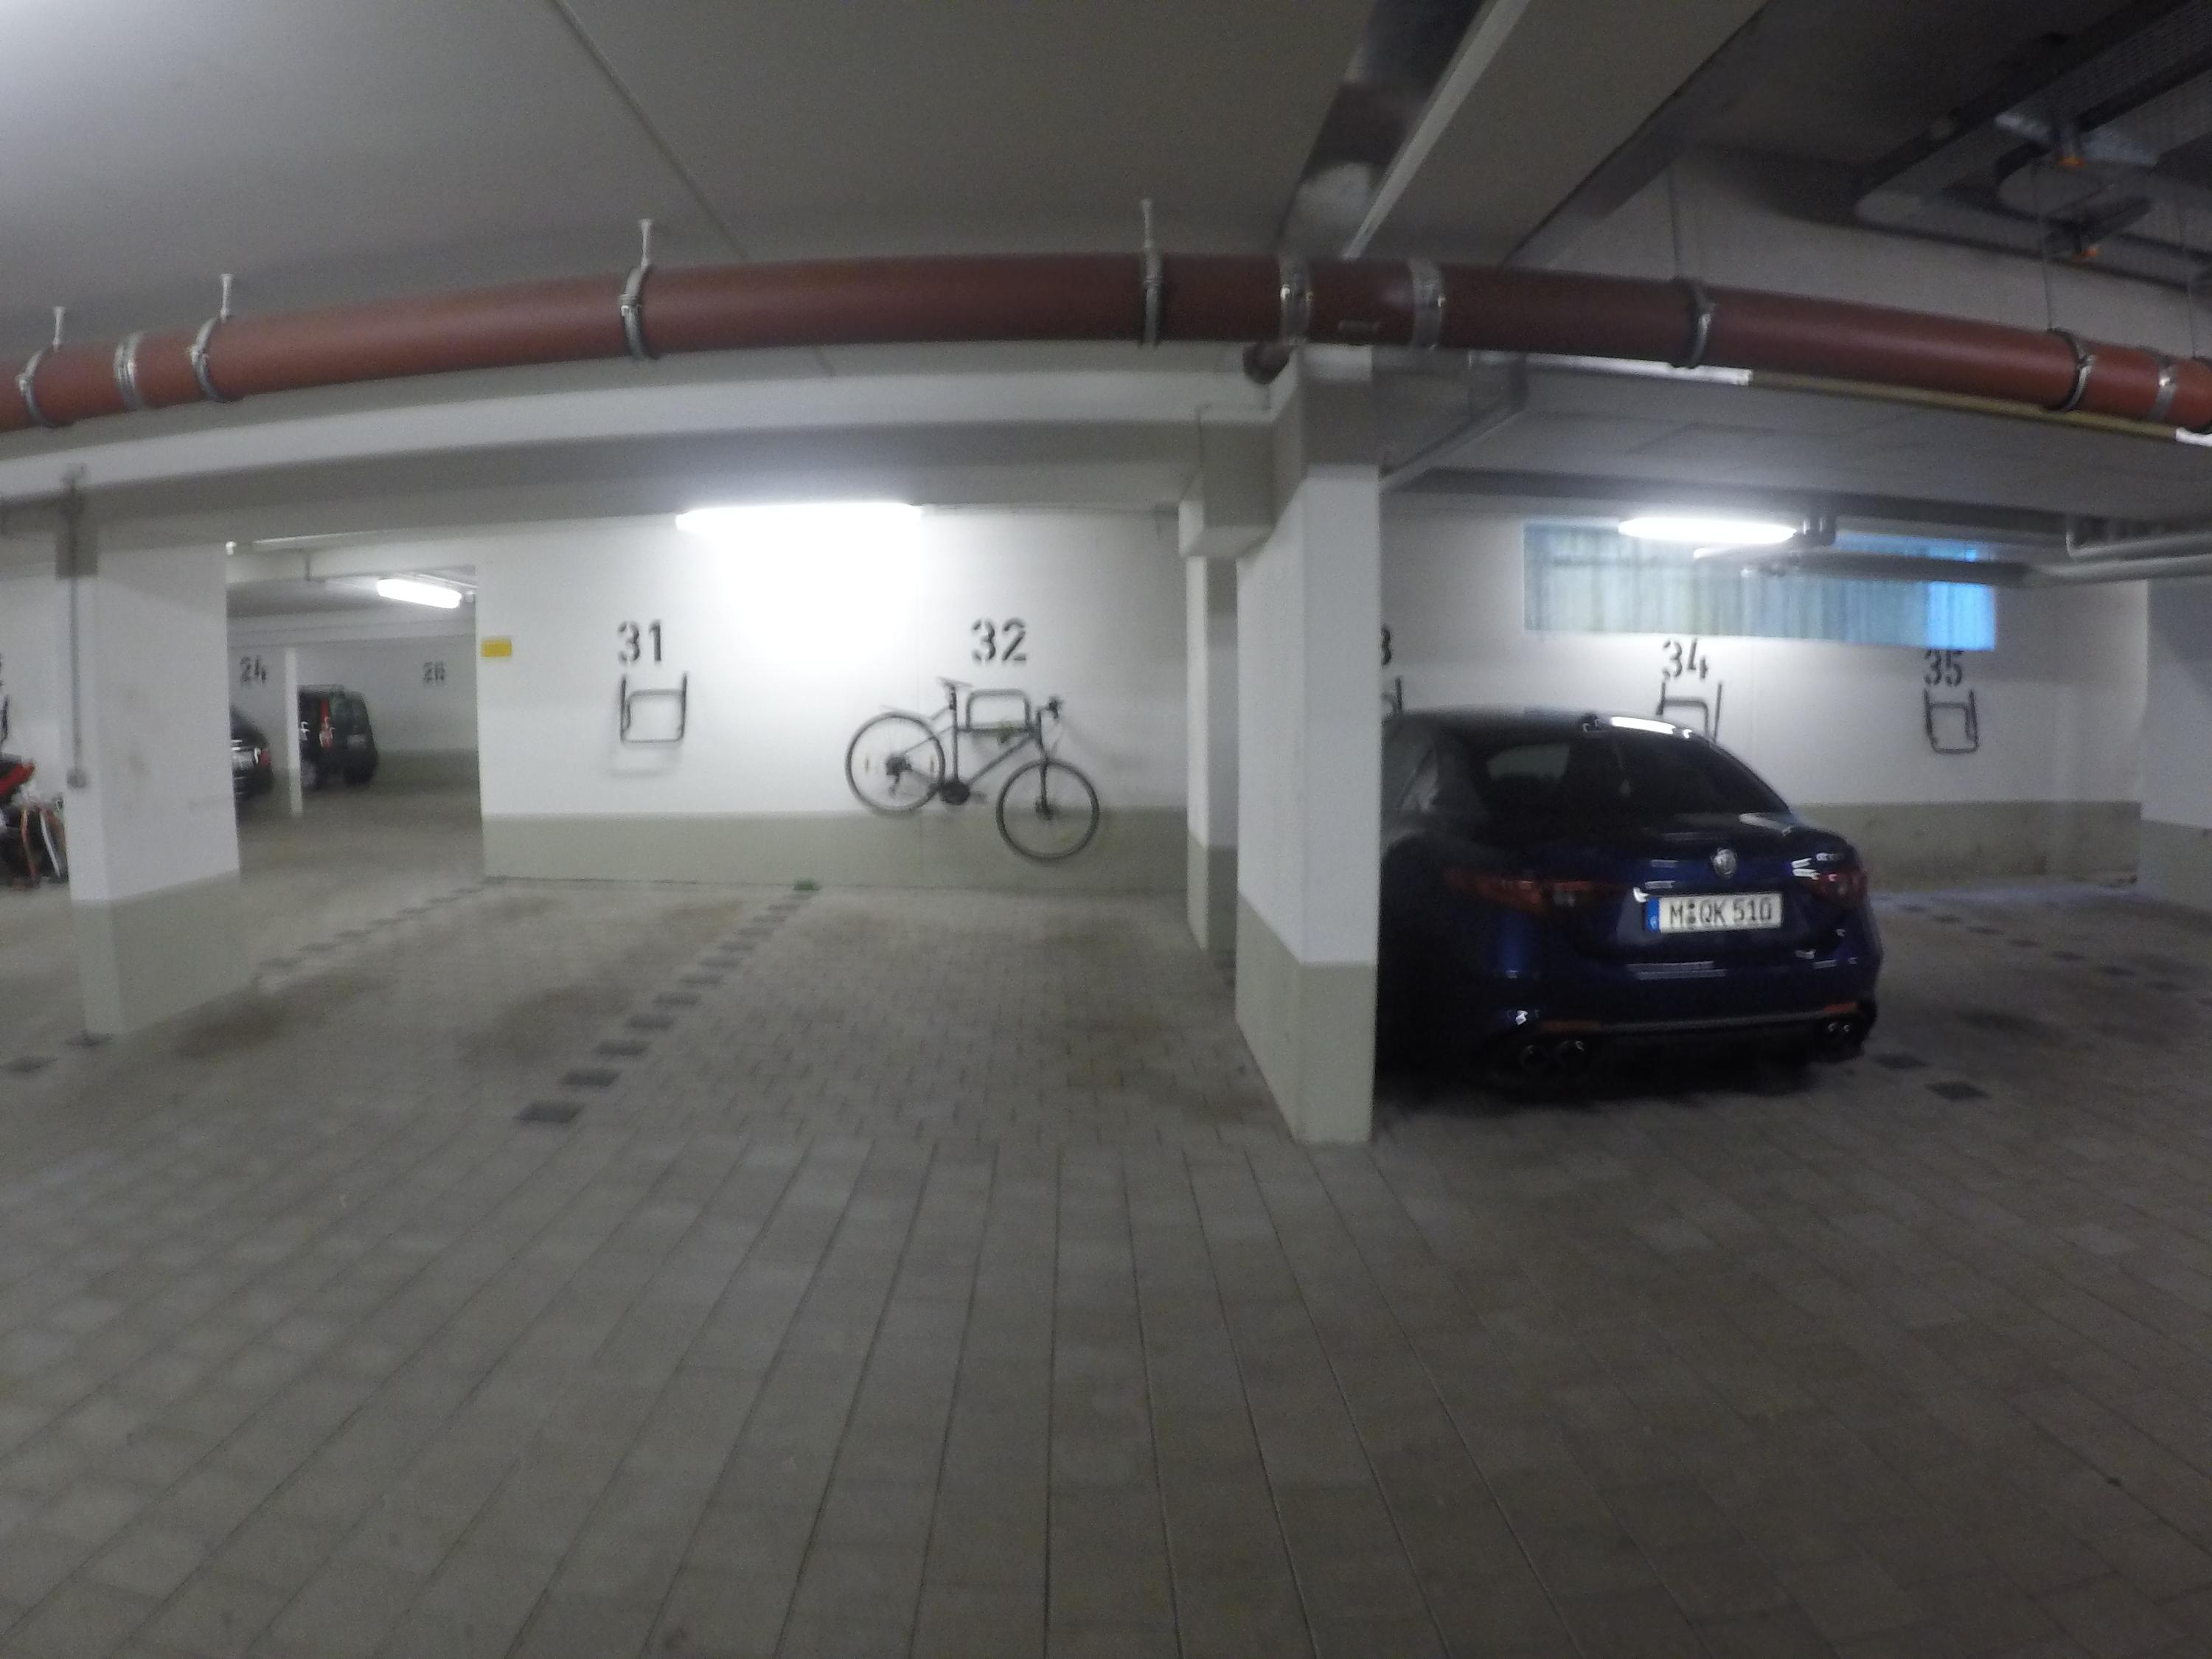0: (1759, 895, 1773, 921)
1: (1746, 898, 1758, 923)
5: (1731, 897, 1746, 922)
K: (1712, 897, 1727, 926)
M: (1669, 900, 1685, 928)
Q: (1697, 899, 1712, 926)
